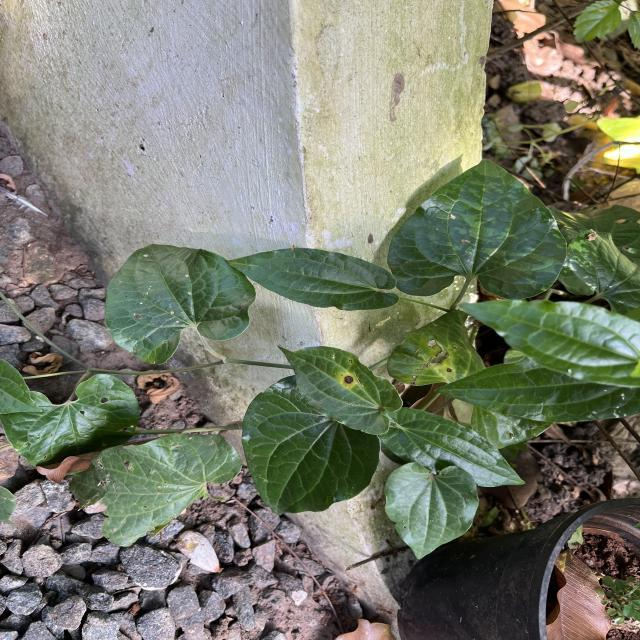Piper longum: (385, 157, 568, 300), (240, 373, 383, 518), (103, 242, 258, 366), (224, 244, 400, 312), (382, 460, 481, 560)
